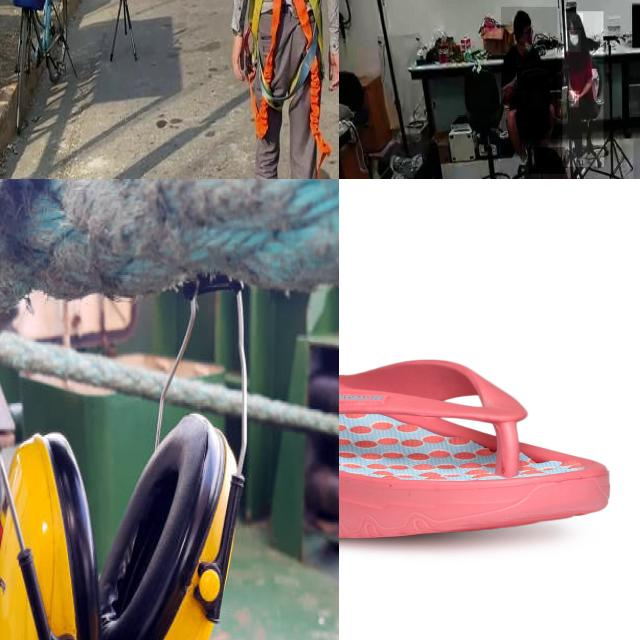Ear-protection: (0, 179, 258, 640)
Harness: (289, 0, 330, 162), (250, 0, 285, 140)
Sandals: (339, 347, 614, 540)
face_mask: (565, 30, 581, 52)
hand_noglove: (570, 91, 580, 108), (568, 90, 576, 102)
head_nohelmet: (528, 147, 566, 175), (566, 13, 584, 28), (513, 10, 531, 24)
person: (501, 7, 558, 156), (562, 11, 604, 167)
